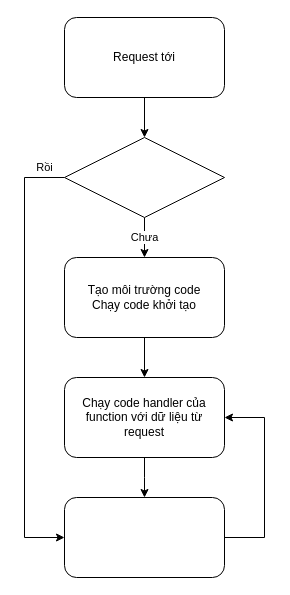
Some shapes in this 290 by 595 pixel diagram are drawn without their labels. The centre of each missing label's shape, as x and y in pixels:
"Môi trường đã khởi tạo chưa?" belongs at point (144, 177).
"Đợi request tới" belongs at point (144, 537).
